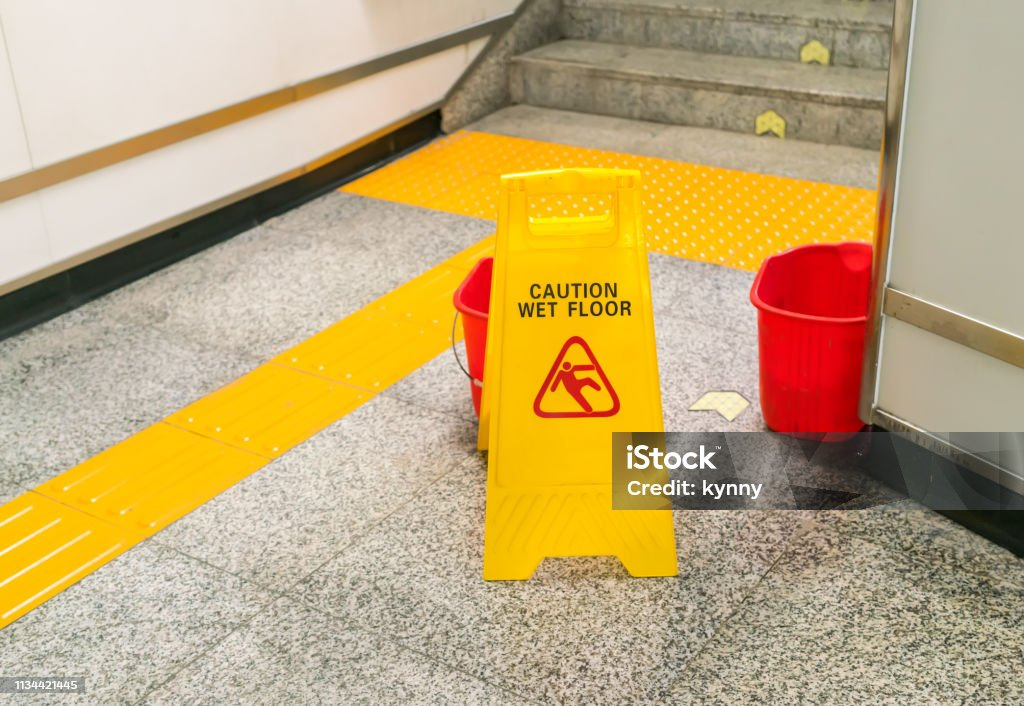wet caution sign: (474, 169, 684, 599)
